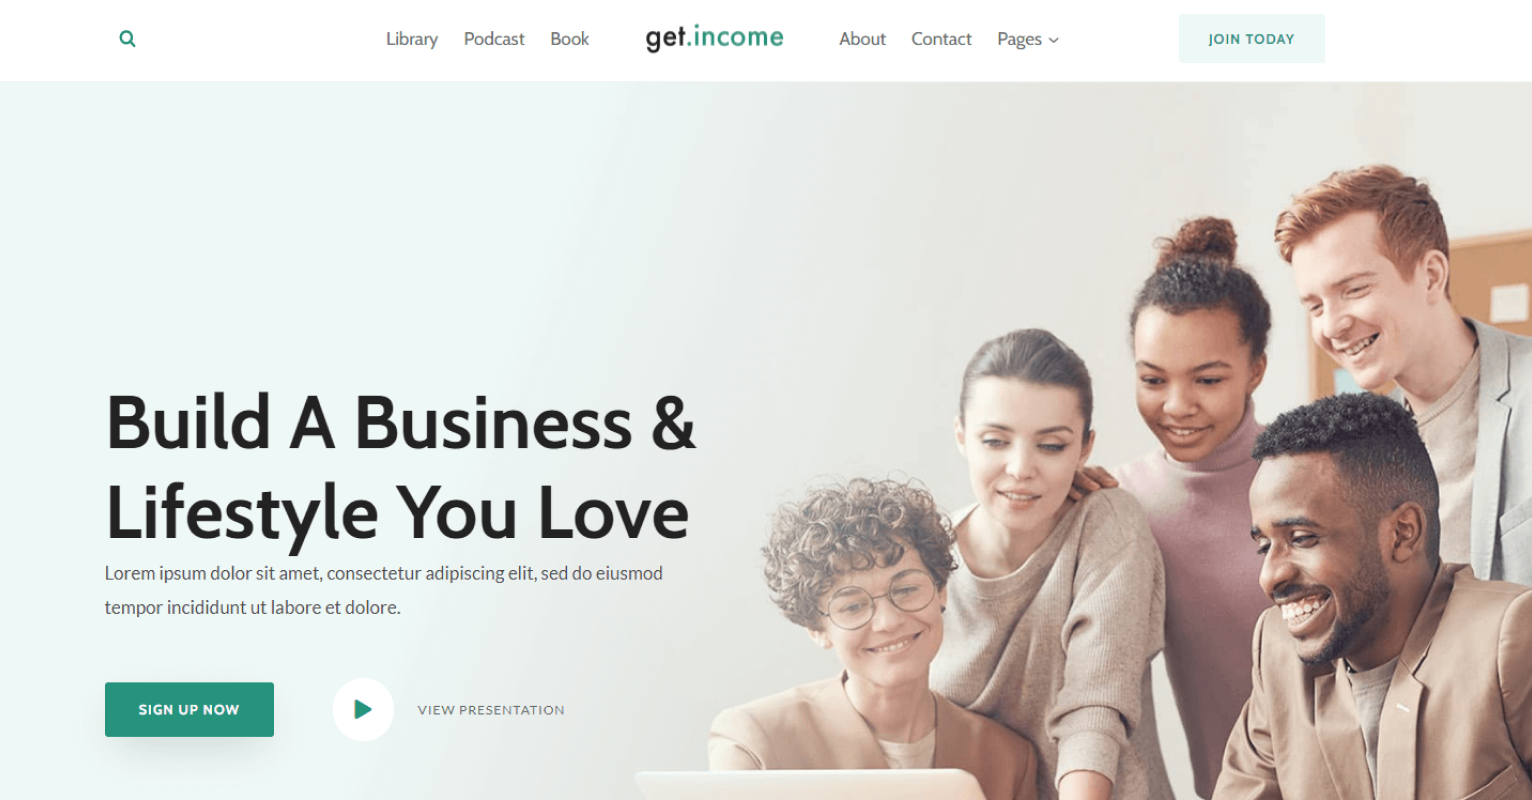menu-bar: (28, 12, 1506, 181)
